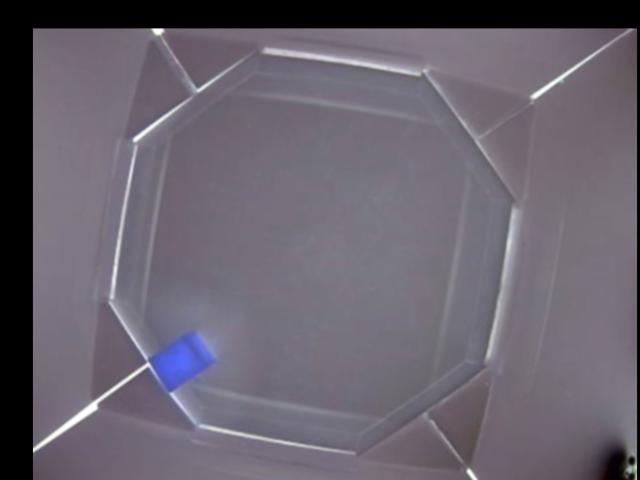Potato: (149, 330, 212, 388)
